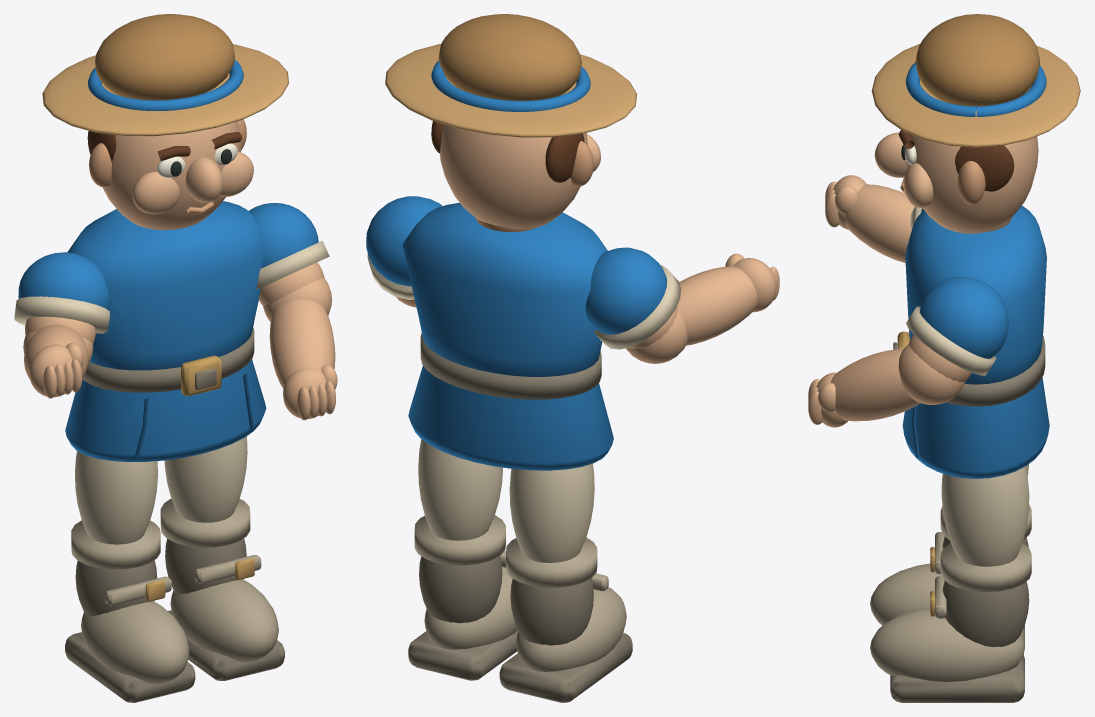
The model's file is boer_zaaien.glb.
3 renders of one model, left to right at view 1: azimuth 30°, elevation 25°; view 2: azimuth 150°, elevation 25°; view 3: azimuth 270°, elevation 25°, orthographic. The views are drawn at different scales.
Visible parts, largest first — view 1: Tunic_torso.005, Tunic_skirt.005, Straw_hat_crown.001, Straw_hat_brim.001, Boot_toe.010, Boot_toe.011, Head.005, Trouser_leg.010, Trouser_leg.011, Left_Forearm.005, Right_Sleeve.005, Belt.005 (+23 smaller); view 2: Tunic_torso.005, Tunic_skirt.005, Straw_hat_crown.001, Head.005, Straw_hat_brim.001, Trouser_leg.010, Trouser_leg.011, Right_Sleeve.005, Right_Forearm.005, Boot_shaft.010, Boot_shaft.011, Belt.005 (+13 smaller); view 3: Tunic_torso.005, Tunic_skirt.005, Straw_hat_crown.001, Straw_hat_brim.001, Boot_toe.011, Trouser_leg.011, Head.005, Left_Sleeve.005, Left_Forearm.005, Boot_shaft.011, Right_Forearm.005, Boot_sole.011 (+16 smaller).
Boxes of the visible parts, left/top/right/bottom form: Tunic_torso.005: left=67, top=201, right=264, bottom=370; Tunic_skirt.005: left=65, top=359, right=266, bottom=461; Straw_hat_crown.001: left=94, top=14, right=234, bottom=100; Straw_hat_brim.001: left=42, top=44, right=288, bottom=136; Boot_toe.010: left=81, top=601, right=189, bottom=684; Boot_toe.011: left=170, top=579, right=278, bottom=662; Head.005: left=102, top=121, right=241, bottom=230; Trouser_leg.010: left=75, top=451, right=157, bottom=544; Trouser_leg.011: left=164, top=436, right=247, bottom=522; Left_Forearm.005: left=269, top=299, right=335, bottom=388; Right_Sleeve.005: left=18, top=252, right=110, bottom=309; Belt.005: left=82, top=327, right=254, bottom=392; Tunic_torso.005: left=402, top=202, right=607, bottom=376; Tunic_skirt.005: left=408, top=365, right=613, bottom=470; Straw_hat_crown.001: left=438, top=14, right=581, bottom=100; Head.005: left=440, top=124, right=587, bottom=228; Straw_hat_brim.001: left=385, top=44, right=636, bottom=137; Trouser_leg.010: left=509, top=463, right=594, bottom=562; Trouser_leg.011: left=418, top=439, right=502, bottom=540; Right_Sleeve.005: left=585, top=247, right=666, bottom=334; Right_Forearm.005: left=677, top=266, right=757, bottom=345; Boot_shaft.010: left=510, top=578, right=593, bottom=645; Boot_shaft.011: left=419, top=556, right=502, bottom=623; Belt.005: left=420, top=333, right=601, bottom=399; Tunic_torso.005: left=905, top=205, right=1046, bottom=384; Tunic_skirt.005: left=902, top=377, right=1049, bottom=478; Straw_hat_crown.001: left=915, top=14, right=1040, bottom=106; Straw_hat_brim.001: left=871, top=44, right=1080, bottom=147; Boot_toe.011: left=870, top=608, right=1024, bottom=681; Trouser_leg.011: left=941, top=466, right=1029, bottom=566; Head.005: left=906, top=134, right=1038, bottom=233; Left_Sleeve.005: left=920, top=276, right=1008, bottom=358; Left_Forearm.005: left=830, top=349, right=920, bottom=421; Boot_shaft.011: left=942, top=581, right=1029, bottom=646; Right_Forearm.005: left=845, top=184, right=914, bottom=263; Boot_sole.011: left=890, top=655, right=1024, bottom=702.
Size of the model in its own units: 1.19 by 2.1 by 0.808.
